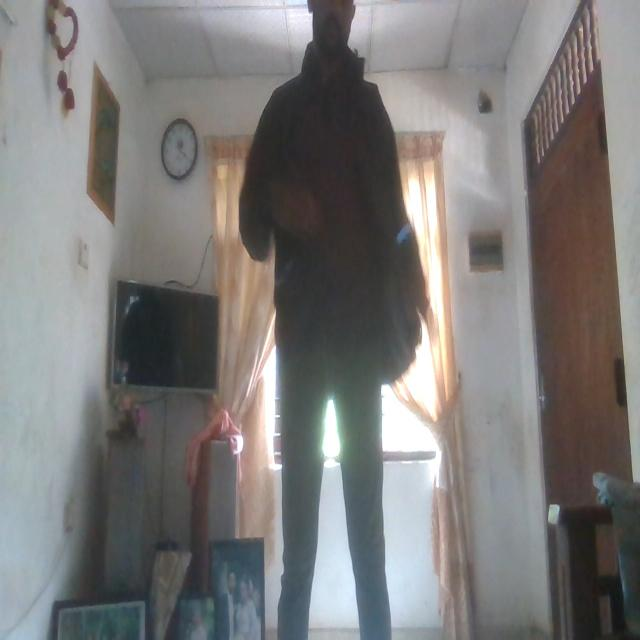Jacket_Wearer: (238, 46, 432, 375)
Person: (238, 4, 433, 640)
